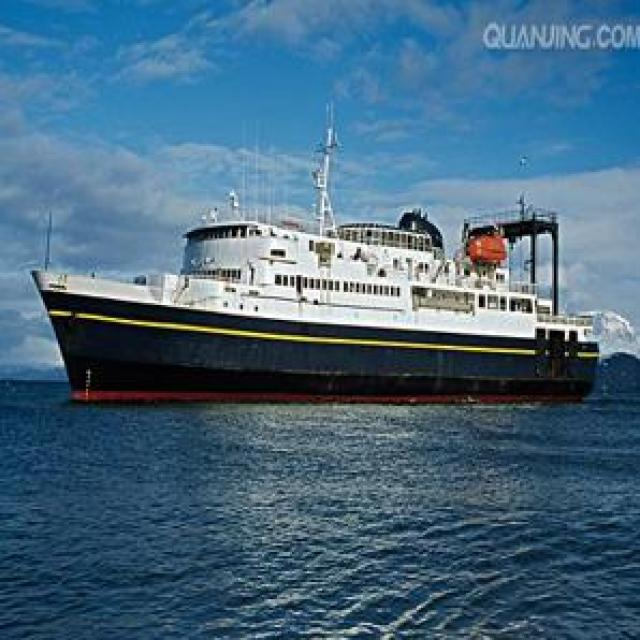passenger ship: (42, 198, 600, 397)
